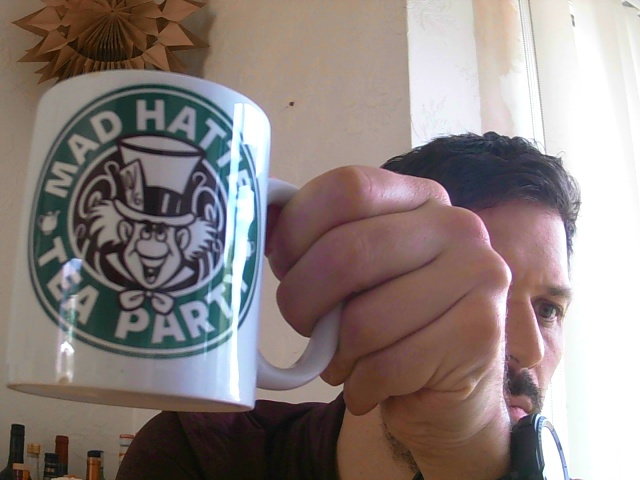mug: (1, 67, 272, 416)
